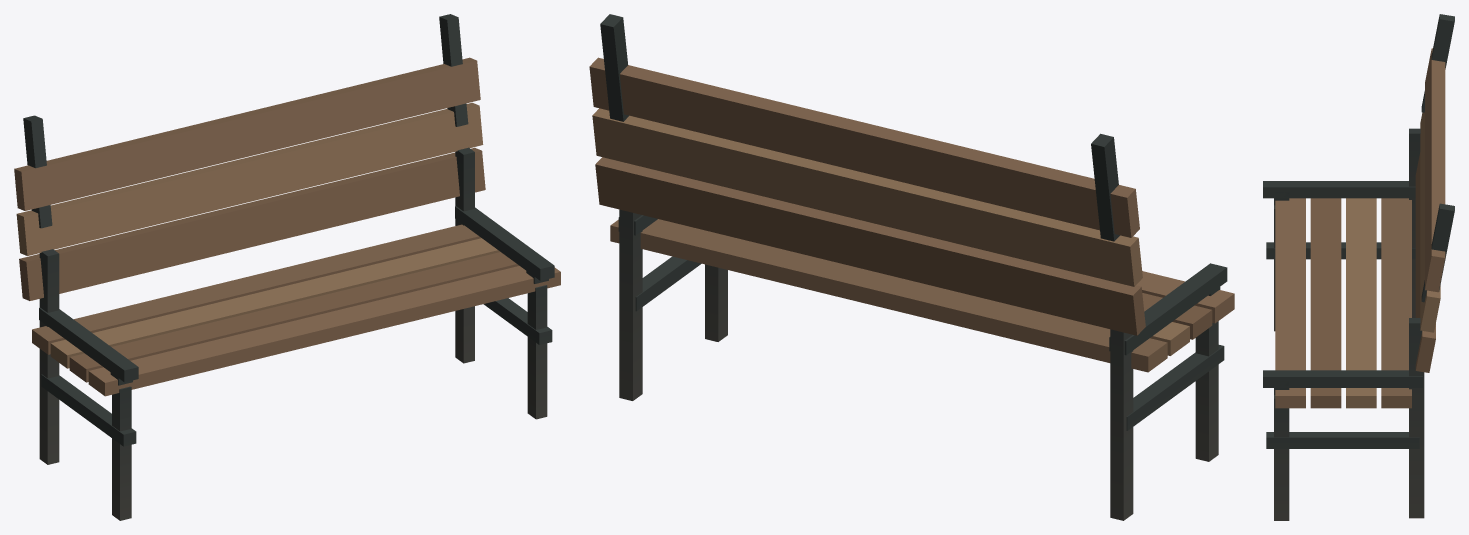
File: bench.glb
3 renders of one model, left to right at view 1: azimuth 30°, elevation 25°; view 2: azimuth 150°, elevation 25°; view 3: azimuth 270°, elevation 25°, orthographic. The views are drawn at different scales.
Visible parts, largest first — view 1: bench; view 2: bench; view 3: bench.
Boxes of the visible parts, box(x1,y1,x2,y2) form: bench: box(14, 14, 560, 520); bench: box(589, 14, 1234, 520); bench: box(1263, 14, 1454, 520).
Bounding box in the file's own units: 1.6 × 1.12 × 0.6241.
